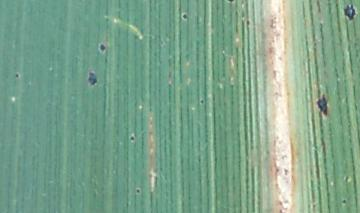tarspot: (314, 92, 329, 117), (342, 3, 357, 21), (86, 69, 98, 87), (98, 42, 107, 54), (180, 12, 188, 21), (128, 134, 135, 143), (282, 167, 289, 176), (13, 72, 20, 80), (340, 197, 347, 205), (245, 18, 251, 27), (199, 98, 205, 106), (104, 16, 110, 24), (134, 188, 141, 194), (226, 1, 235, 3)
